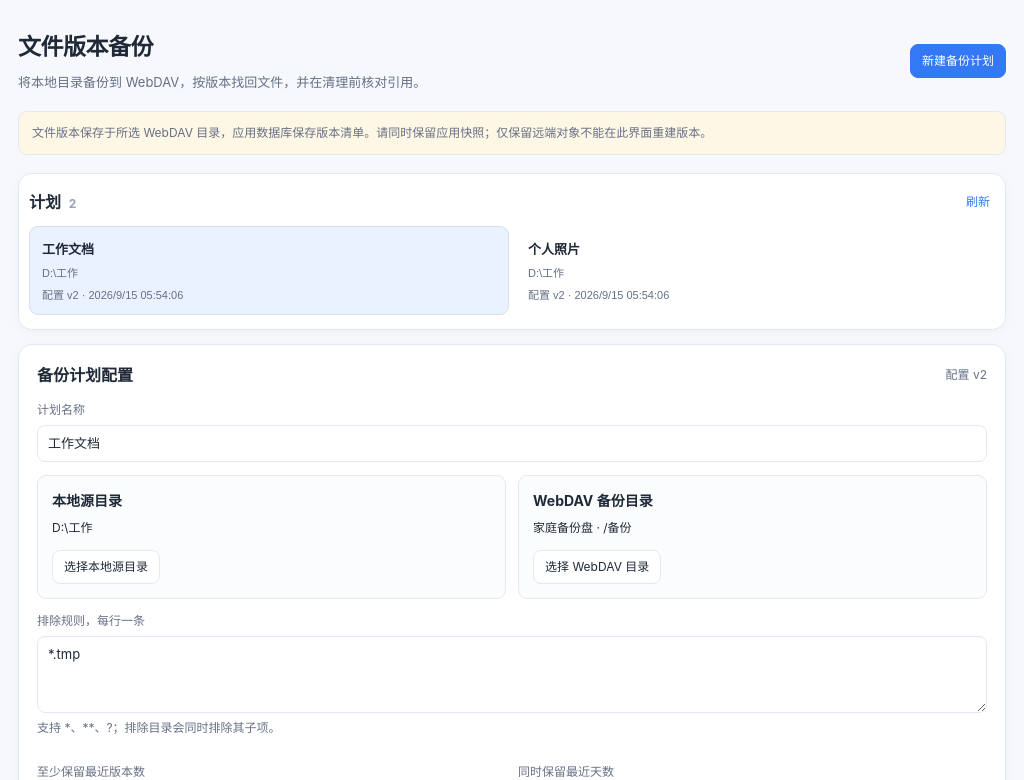
Test case: retains the draft and saved version after a rejected save
Replace the text in the field named "备份计划名称" with "变更后的计划" at [512, 443], box x1=37 y1=425 x2=987 y2=462
(page scrolled)
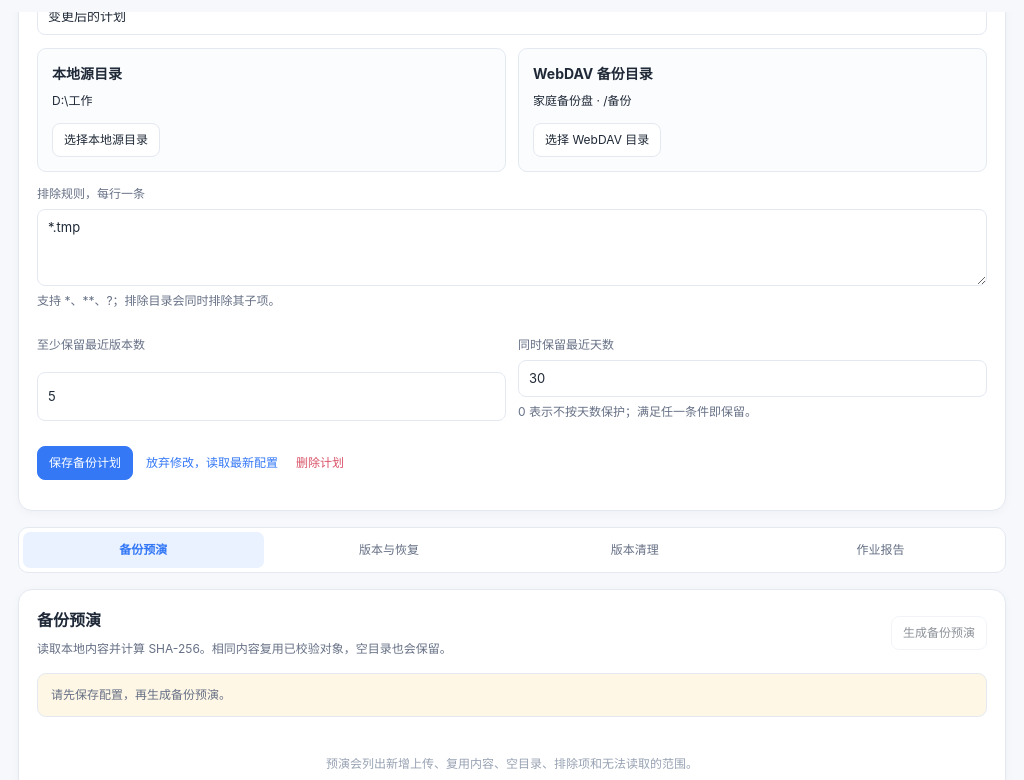
Replace the text in the number field named "保留版本数" with "8" at [272, 396], box x1=37 y1=372 x2=506 y2=421
(page scrolled)
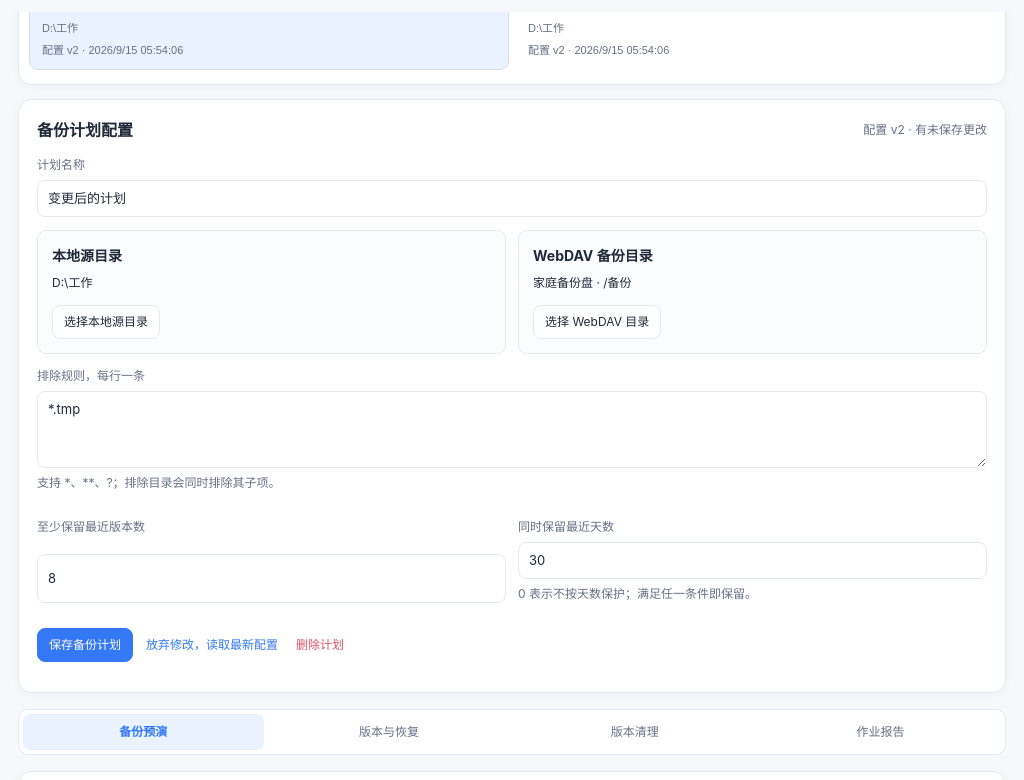
Submit the form with class "backup-plan-form"
(page scrolled)
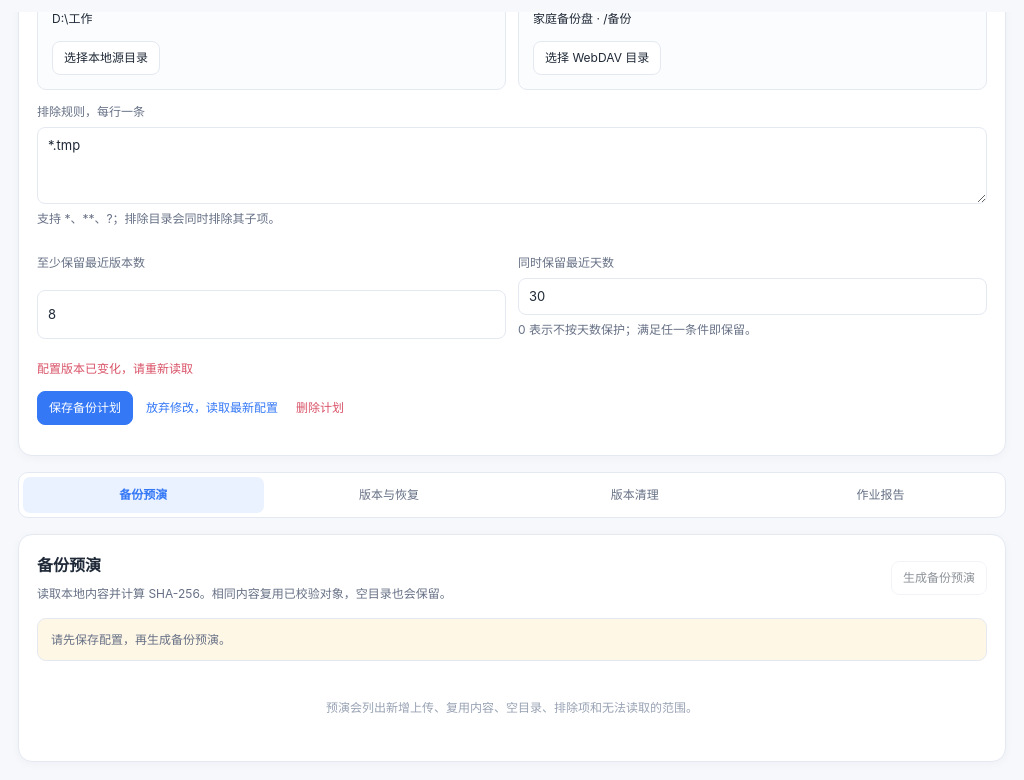
Check: the text "配置版本已变化" is shown, box x1=37 y1=361 x2=193 y2=376
Check: the button "生成备份预演" is disabled, box x1=891 y1=561 x2=987 y2=595
